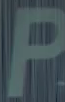Parking: (11, 3, 59, 94)
